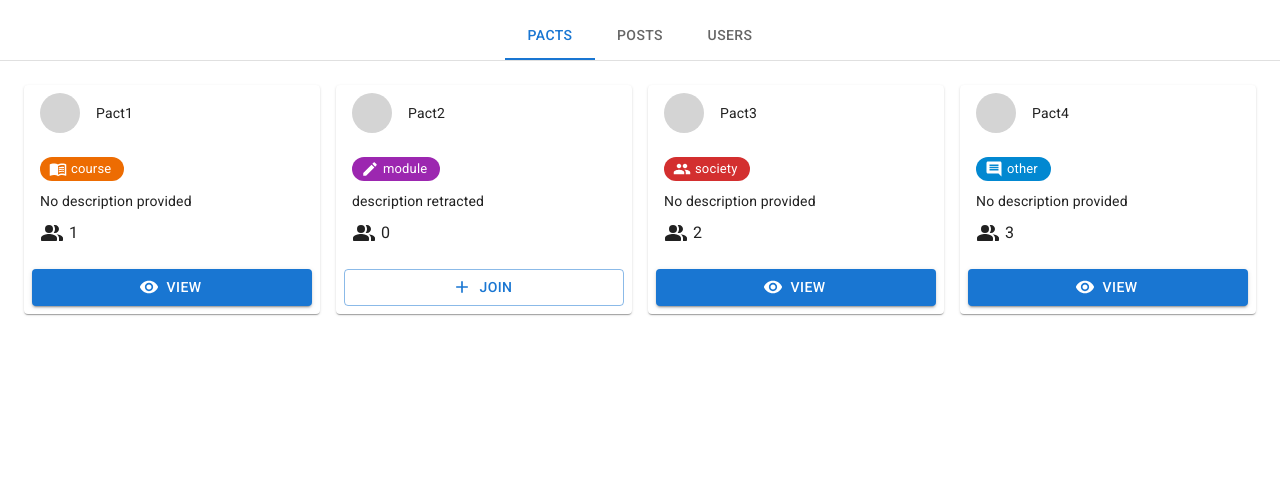
Test: SearchResults Tests › Check elements are rendered › allows the user to go to the user list
This screenshot has width=1280, height=494.
Click the tab "Users" at (730, 36), box [685,12,775,60]
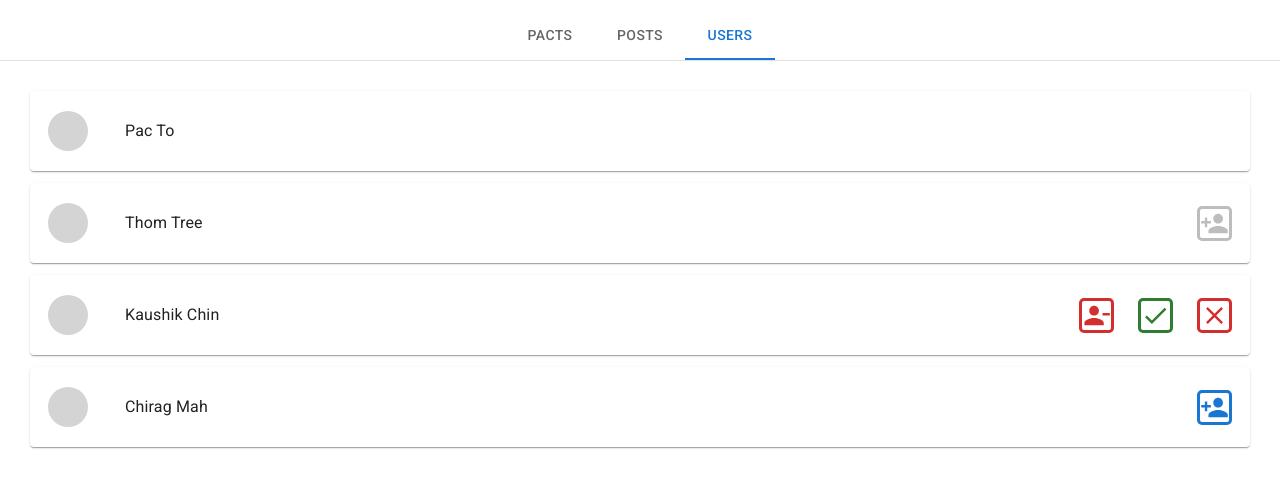
Expected: the panel with test id "pact-grid" is gone
Expected: the panel with test id "user-list" is shown
